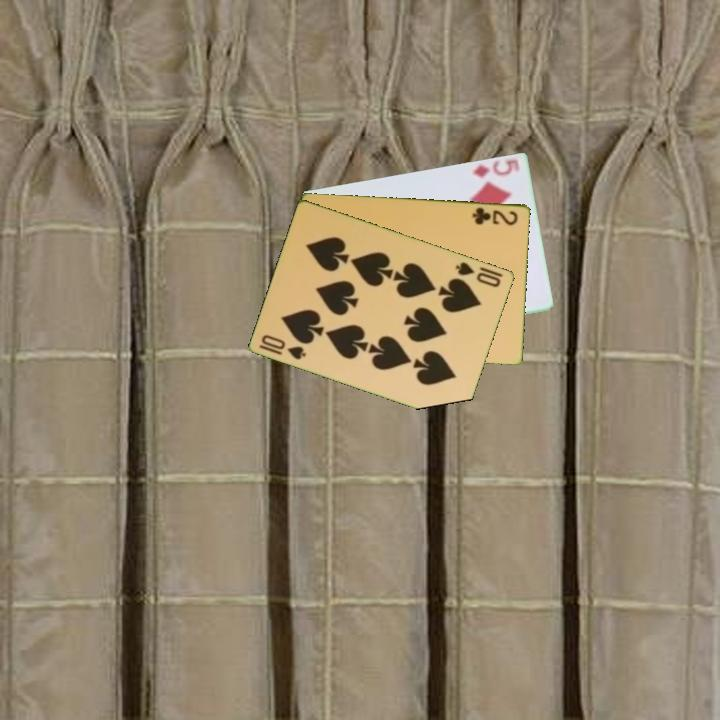10s: (452, 258, 504, 290), (256, 331, 309, 362)
2c: (469, 203, 521, 228)
5d: (469, 155, 520, 181)
